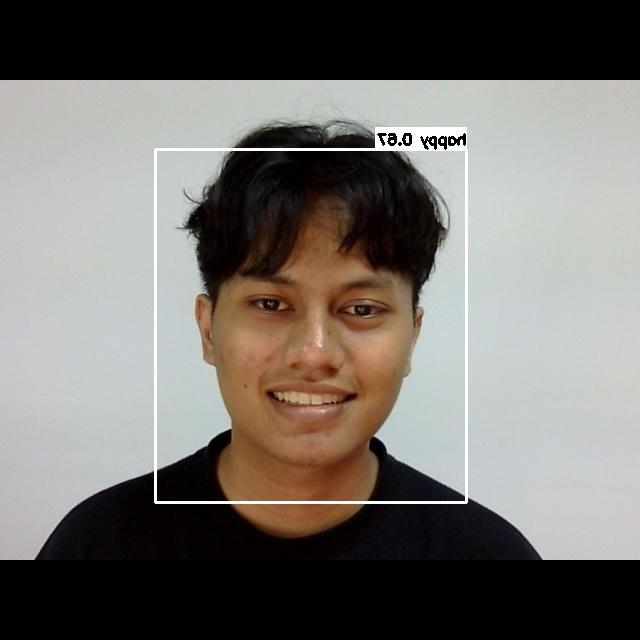Happy: (218, 240, 406, 443)
